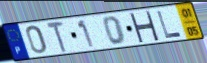0: (102, 14, 128, 46), (25, 24, 50, 56)
1: (76, 18, 96, 49)
H: (128, 11, 161, 43)
L: (155, 10, 183, 39)
T: (45, 21, 69, 54)
